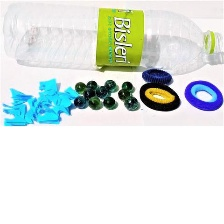bottle: (0, 0, 224, 72)
